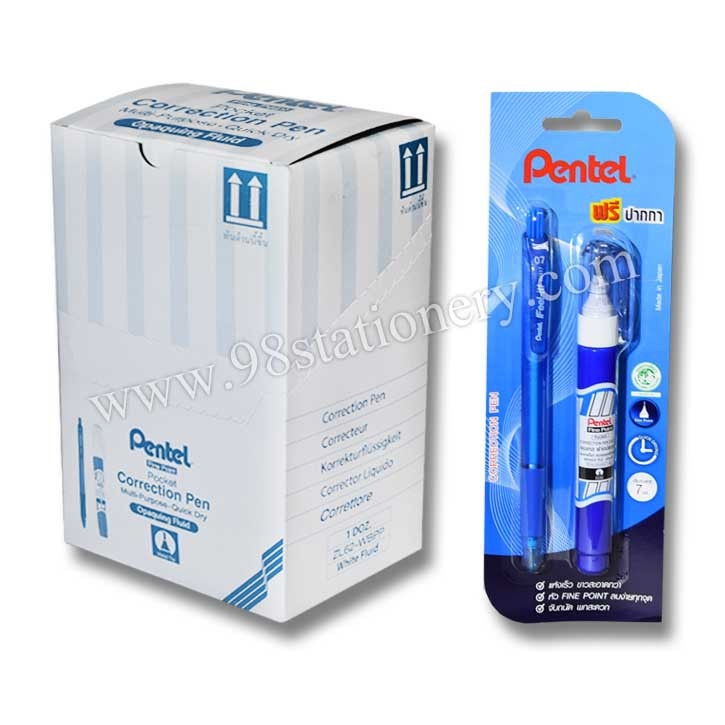Correction_fluid: (567, 225, 640, 584)
